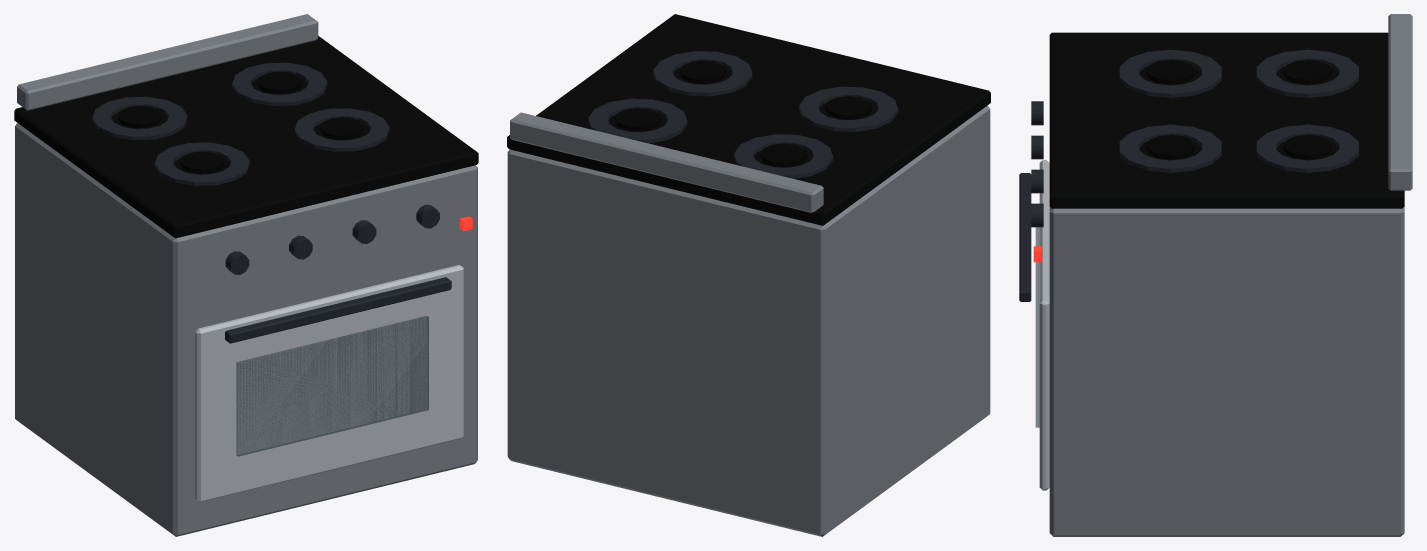
The model's file is stove_range.glb.
3 views of the same model, side by side, from view 1: azimuth 30°, elevation 25°; view 2: azimuth 150°, elevation 25°; view 3: azimuth 270°, elevation 25° (orthographic). The views are drawn at different scales.
Parts seen in each view (by area): view 1: stove_range; view 2: stove_range; view 3: stove_range.
Part boxes in pixels (x1,y1,x2,y2): stove_range: (14,14,478,536); stove_range: (507,14,990,536); stove_range: (1019,14,1412,536).
Bounding box in the file's own units: 0.96 × 1 × 0.975.
